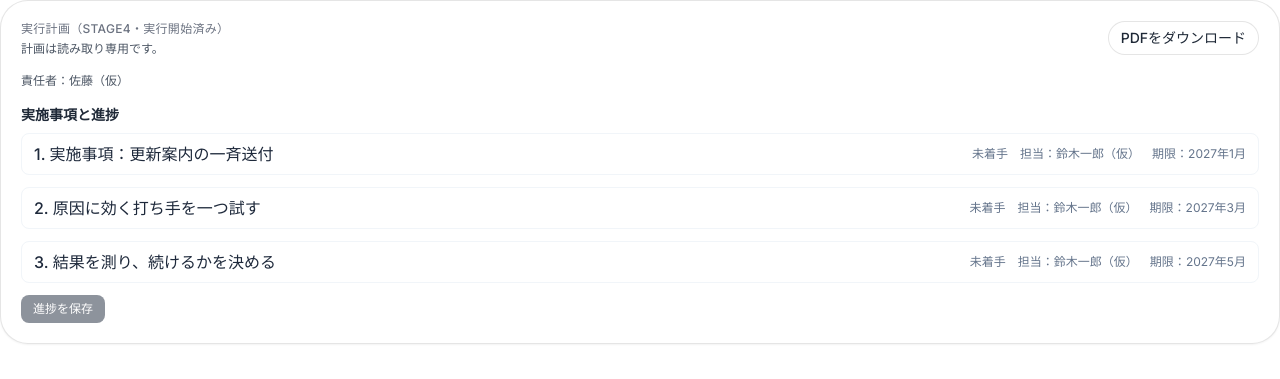
Scenario: STAGE5 のプロジェクトモーダル：実行開始済みの計画（読み取り専用） › 会計年度末が無いときは、財務効果を読めないためPDFを作らず、理由を出す
Click the button "PDFをダウンロード": (1183, 38) [1108, 21, 1259, 55]
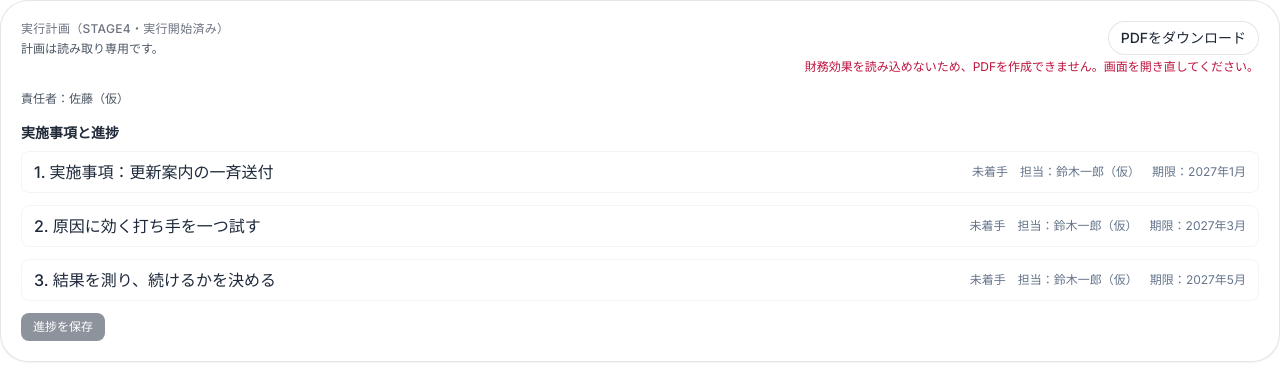
Expected: the message "財務効果を読み込めないため、PDFを作成できません。画面を開き直してください。" is shown, [805, 59, 1259, 75]
